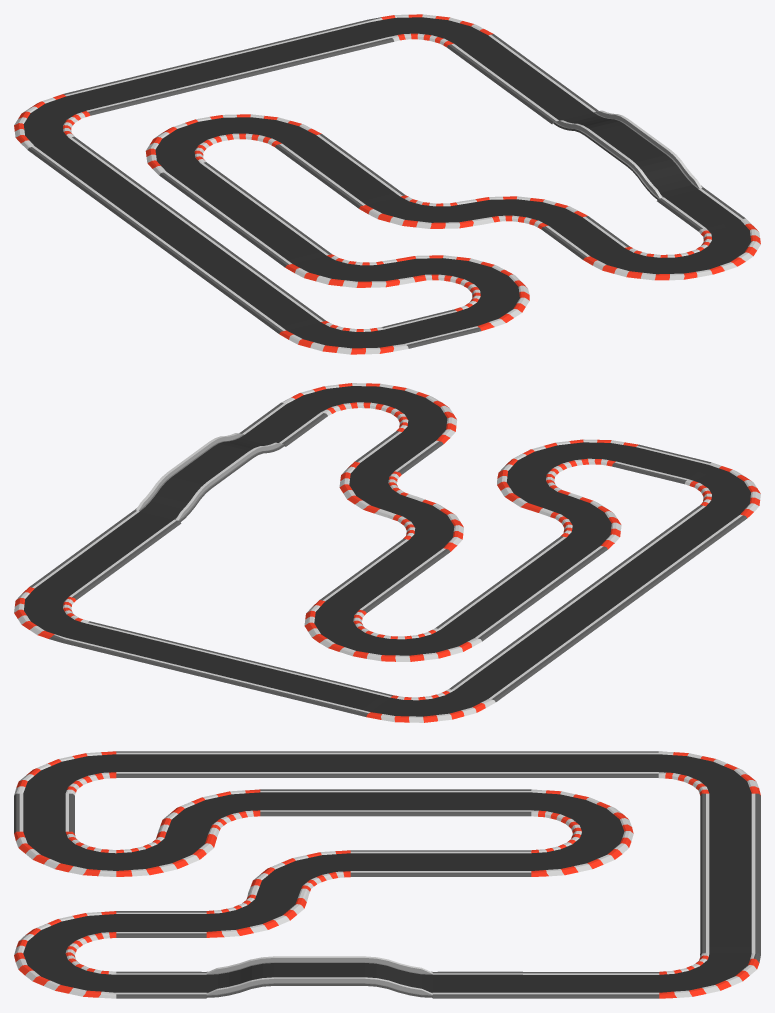
File: Circuit01.fbx
The picture shows the model from 3 angles, top to bottom: view 1: azimuth 30°, elevation 25°; view 2: azimuth 150°, elevation 25°; view 3: azimuth 270°, elevation 25°; orthographic projection. The views are drawn at different scales.
Visible parts, largest first — view 1: Circuit; view 2: Circuit; view 3: Circuit.
Boxes of the visible parts, x1,y1,x2,y2 form: Circuit: (14, 14, 760, 354); Circuit: (14, 383, 760, 722); Circuit: (14, 751, 760, 998).
Size of the model in its own units: 4874 by 169 by 6247.
